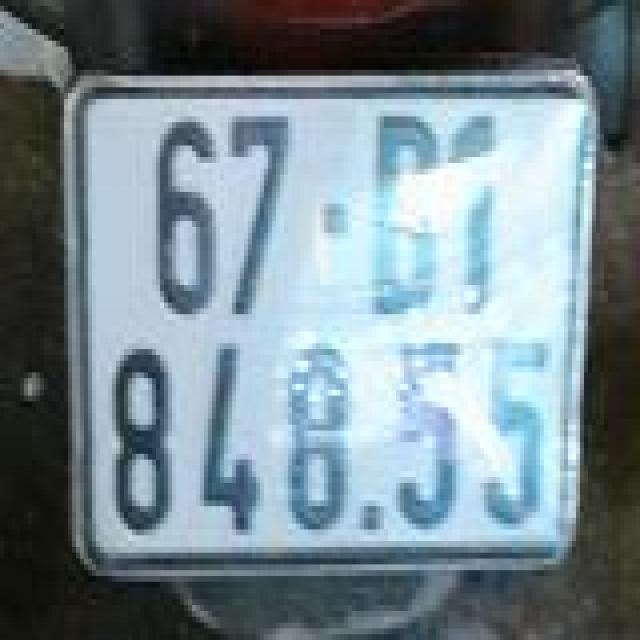1: (448, 108, 512, 323)
4: (192, 326, 268, 535)
5: (384, 335, 468, 544), (476, 332, 552, 530)
6: (144, 99, 224, 326)
7: (224, 105, 300, 320)
8: (278, 326, 354, 535), (106, 332, 178, 541)
B: (352, 105, 444, 332)
